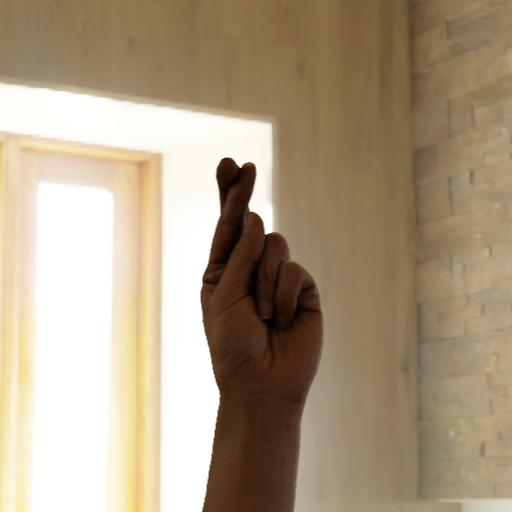R: (139, 114, 391, 492)
